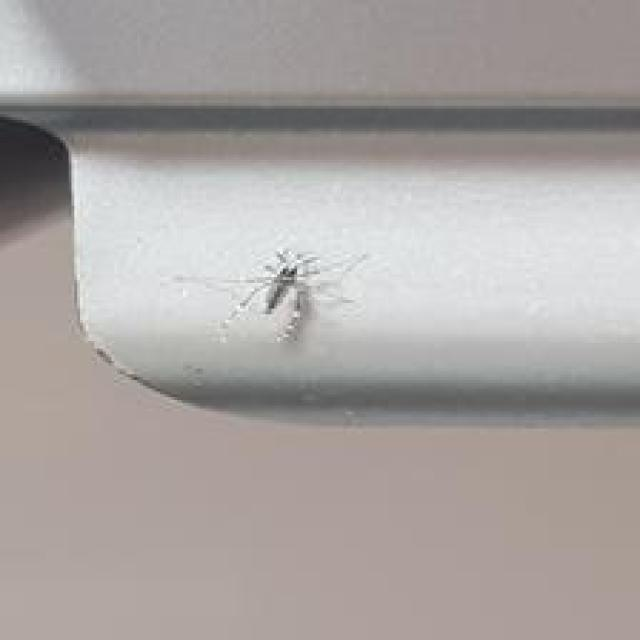Aedes albopictus: (217, 244, 366, 344)
